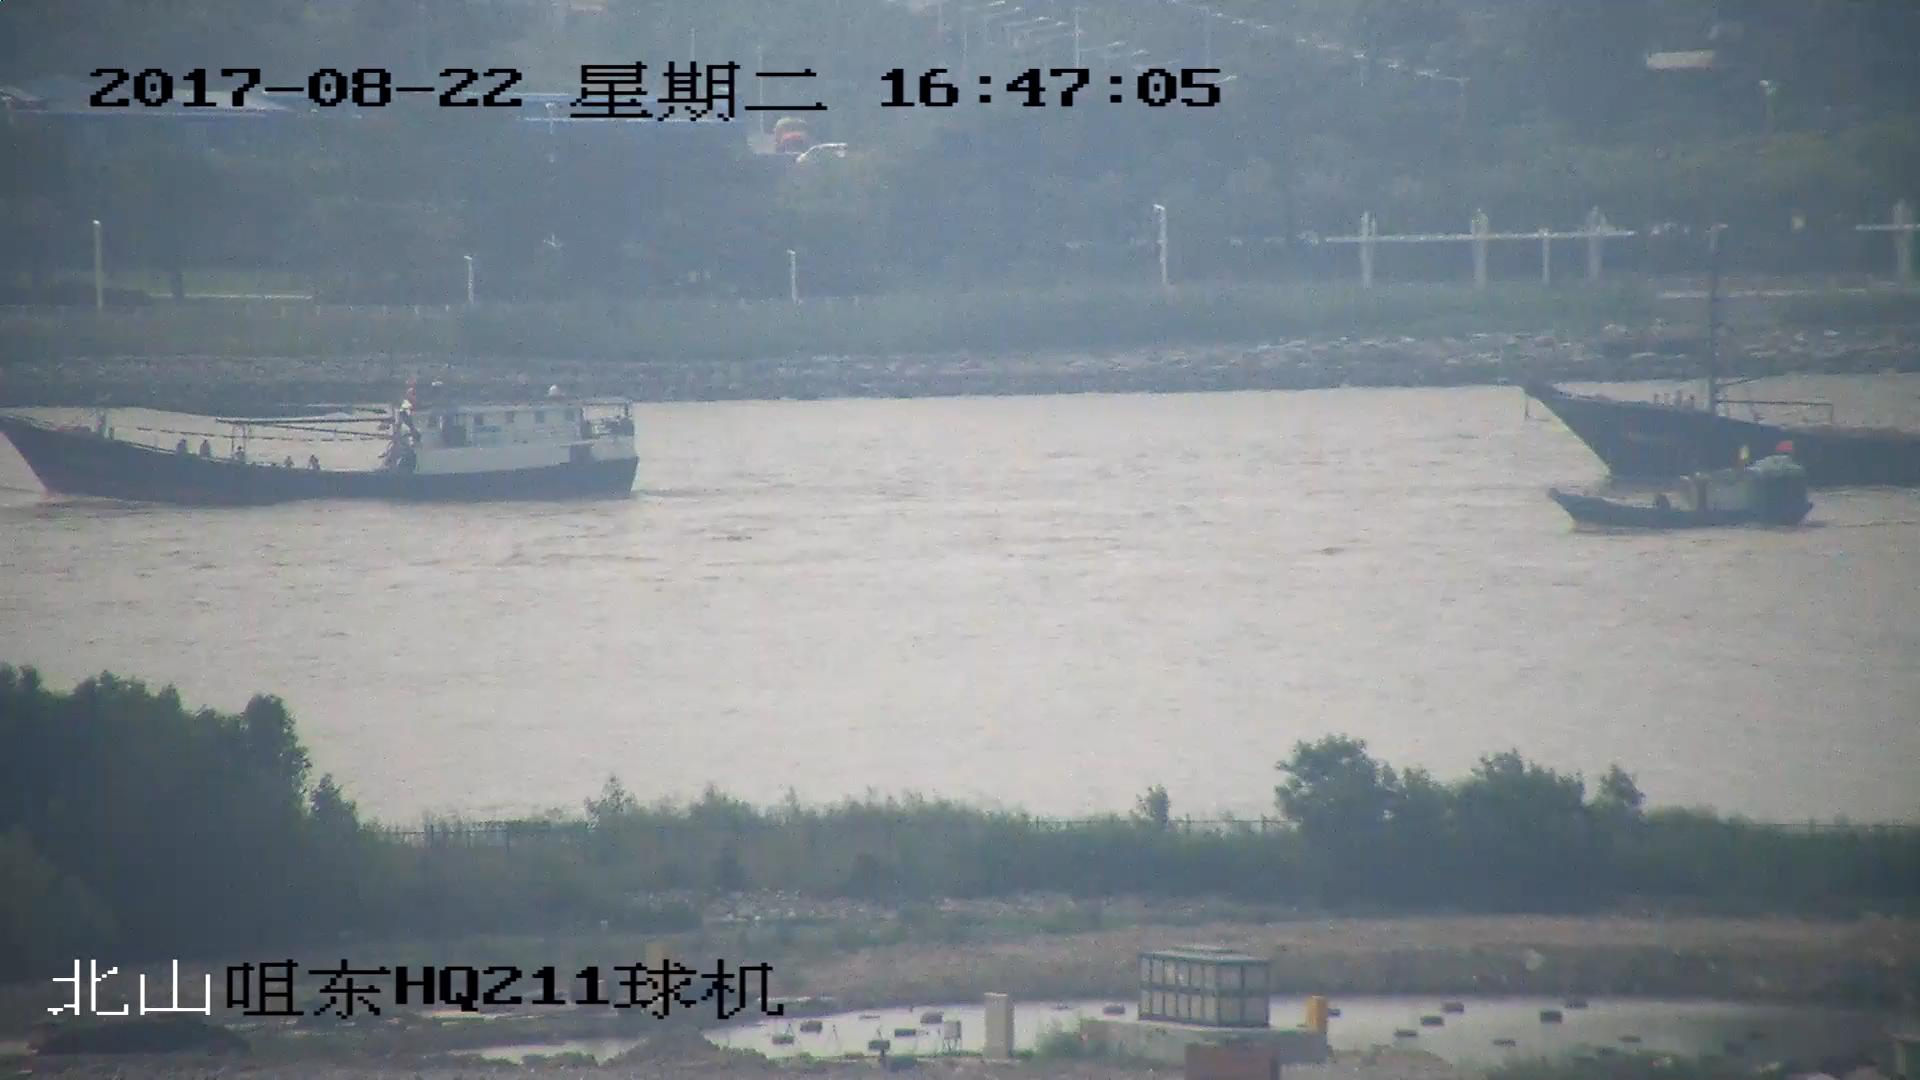fishing boat: (1525, 244, 1920, 489), (1, 373, 644, 508), (1565, 452, 1812, 531)
